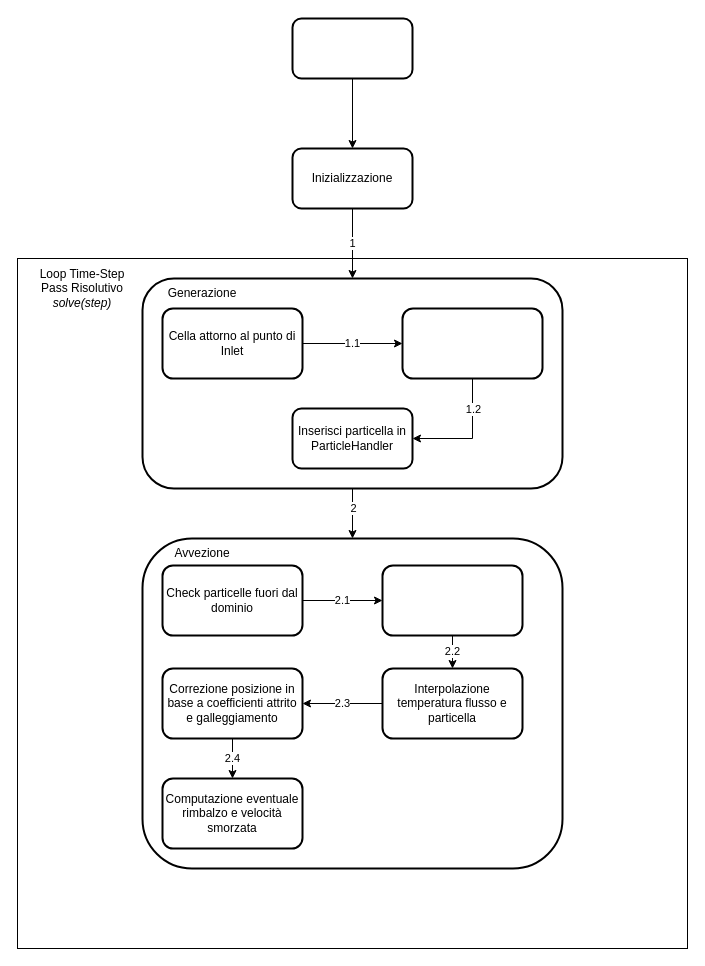
The diagram is 705 pixels wide and 966 high, and some of its shapes have lost their labels. Each missing label, with the centre of its shape:
Interpolazione velocità flusso e particella: the point at 452,600
mappa coordinate da globali a locali: the point at 472,343
Particelle: the point at 352,48
